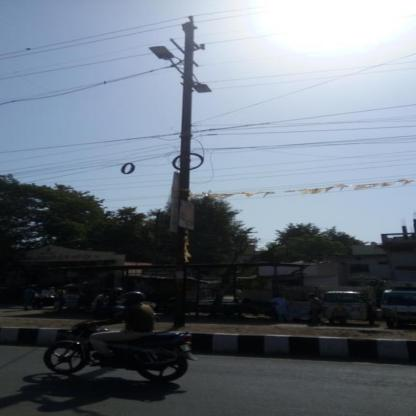Electrical Pole: (139, 13, 222, 330)
